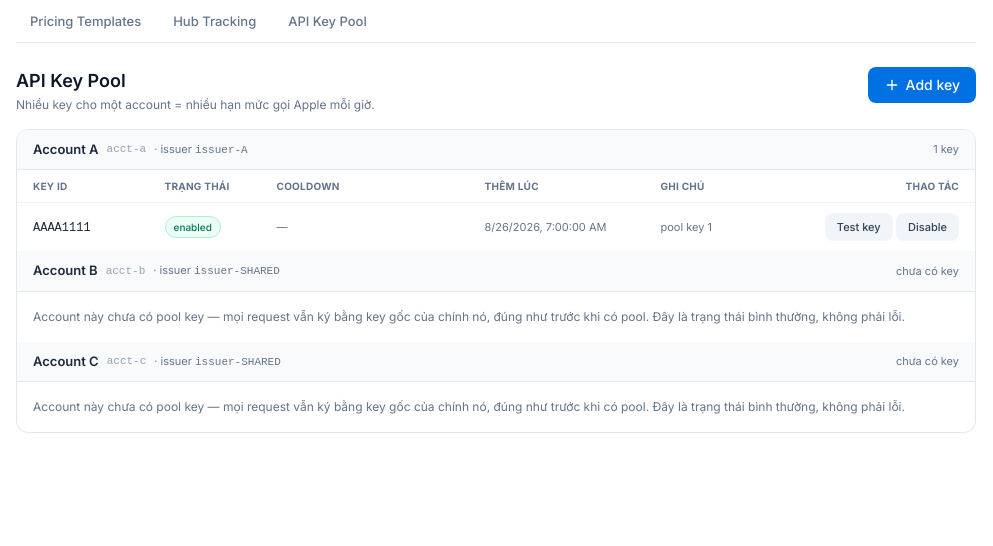
Test case: ⚠ (d) Test key never shows success for a non-success › ⚠ ❌ a wrong-team result names the account and is NOT the ok box
Expected: the row with test id "key-row-AAAA1111" is shown, [17,202,975,251]
What coordinates should you click on to do the following:
click the button with test id "test-AAAA1111"
I would click on:
 (859, 227)
Its box is [825,213,893,241].
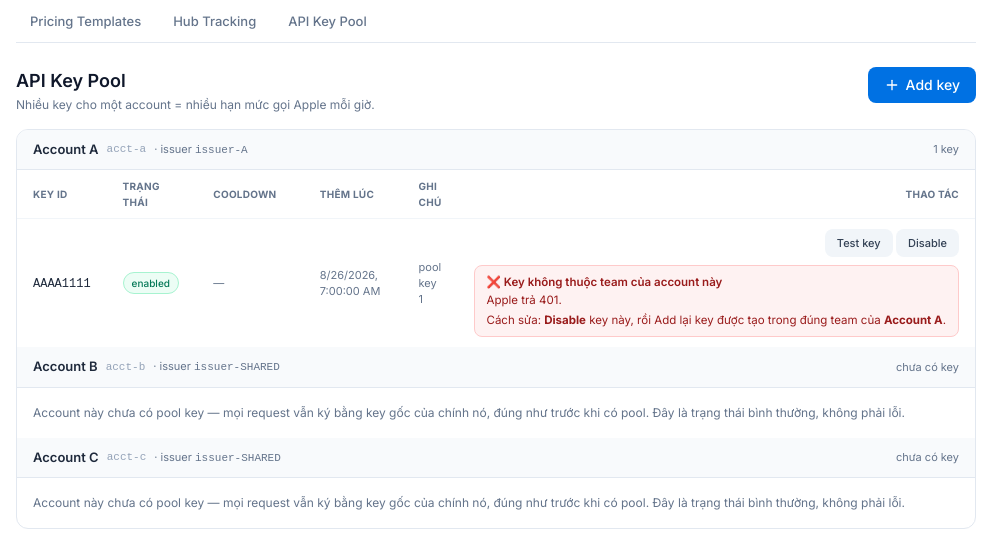
Expected: the element with test id "test-wrong-team" is shown, [474,265,959,337]
